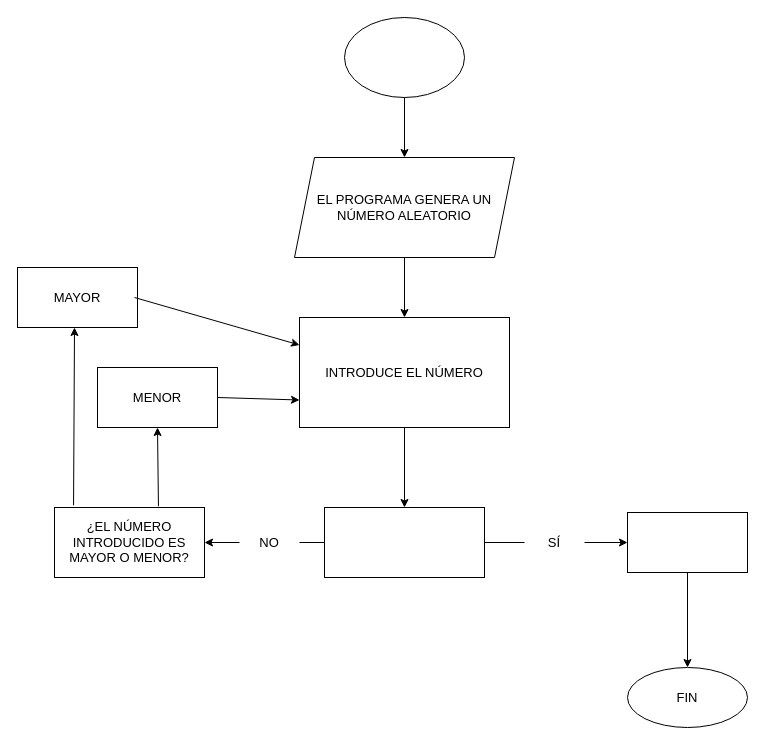
The diagram is 765 pixels wide and 745 high, and some of its shapes have lost their labels. The centre of each missing label's shape, as x and y in pixels:
HAS ACERTADO!: (x=687, y=542)
INICIO: (x=404, y=57)
¿EL NÚMERO ES IGUAL AL NÚMERO ALEATORIAMENTE ?: (x=404, y=542)
